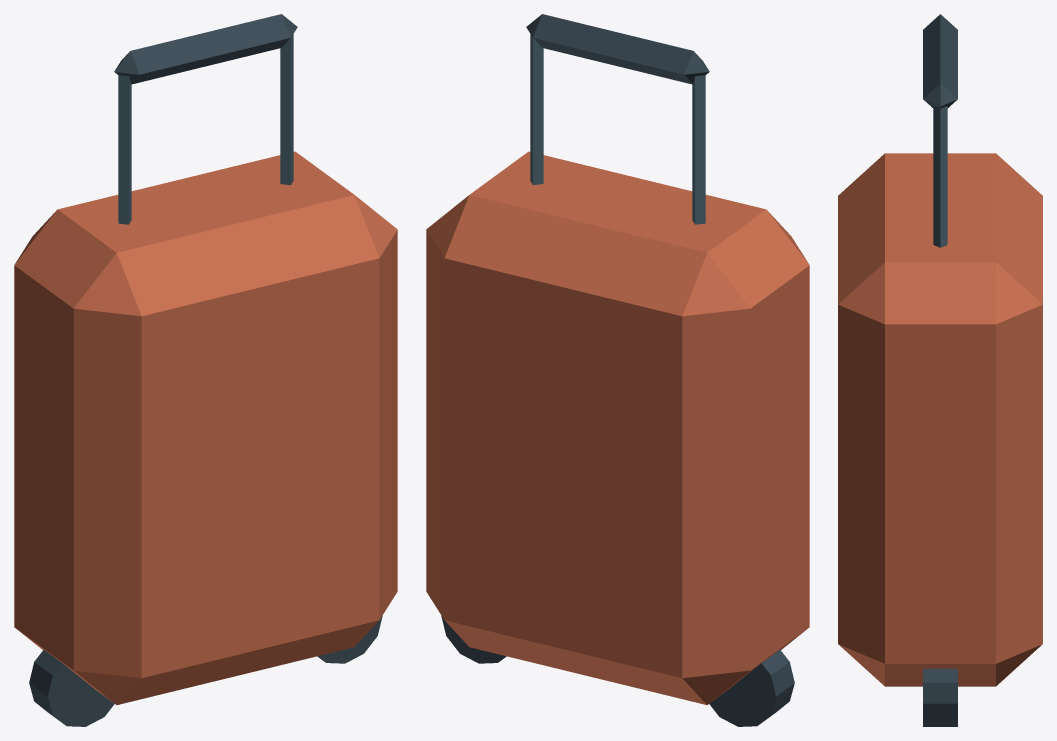
File: rolling-luggage.glb
3 renders of one model, left to right at view 1: azimuth 30°, elevation 25°; view 2: azimuth 150°, elevation 25°; view 3: azimuth 270°, elevation 25°, orthographic. The views are drawn at different scales.
Visible parts, largest first — view 1: suitcase, luggage-handle, suitcase-wheel, handle-rail, handle-rail.001, suitcase-wheel.001; view 2: suitcase, luggage-handle, suitcase-wheel, handle-rail, handle-rail.001, suitcase-wheel.001; view 3: suitcase, luggage-handle, handle-rail.001, suitcase-wheel.001.
Boxes of the visible parts, x1,y1,x2,y2 form: suitcase: [14, 151, 397, 704]; luggage-handle: [114, 14, 297, 84]; suitcase-wheel: [29, 650, 114, 726]; handle-rail: [118, 75, 131, 224]; handle-rail.001: [280, 34, 293, 184]; suitcase-wheel.001: [317, 616, 382, 663]; suitcase: [426, 151, 809, 704]; luggage-handle: [526, 14, 709, 84]; suitcase-wheel: [709, 650, 794, 726]; handle-rail: [692, 75, 705, 224]; handle-rail.001: [530, 34, 543, 184]; suitcase-wheel.001: [441, 616, 506, 663]; suitcase: [838, 153, 1042, 686]; luggage-handle: [923, 14, 957, 108]; handle-rail.001: [933, 106, 947, 247]; suitcase-wheel.001: [923, 668, 957, 726].
Size of the model in its own units: 0.62 by 1.16 by 0.35.
